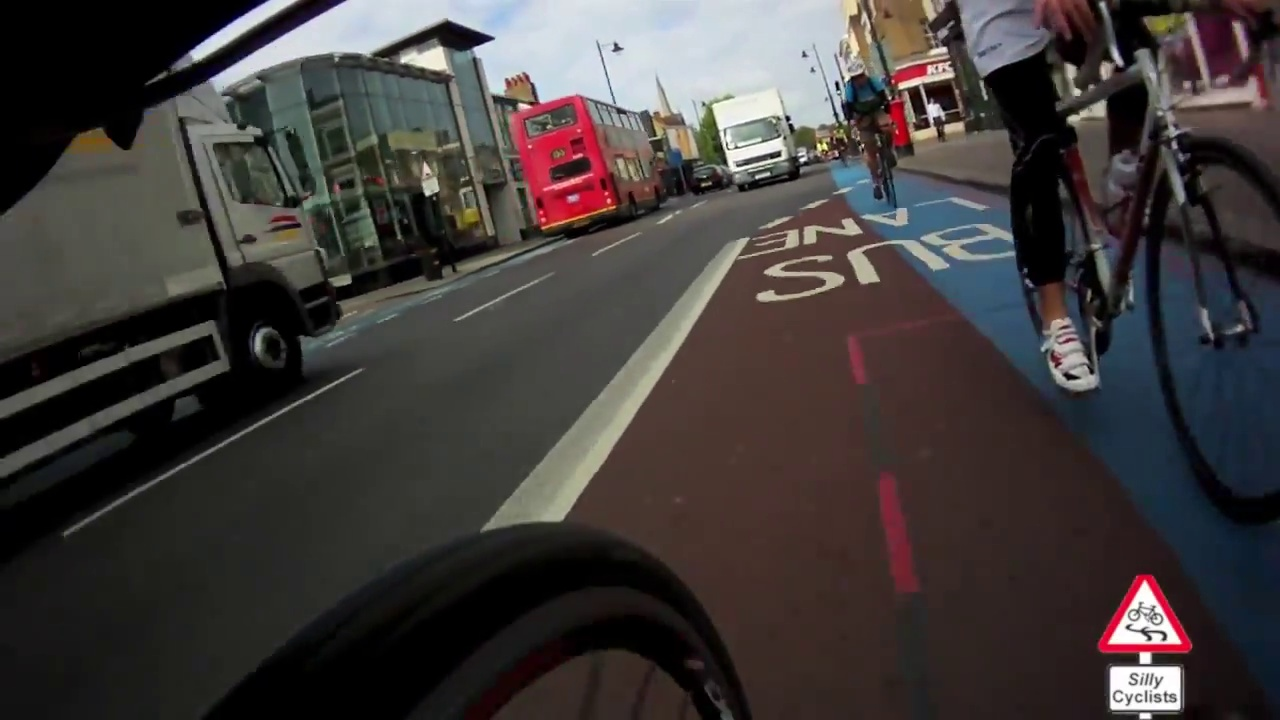cyclist_front: (835, 50, 919, 222)
